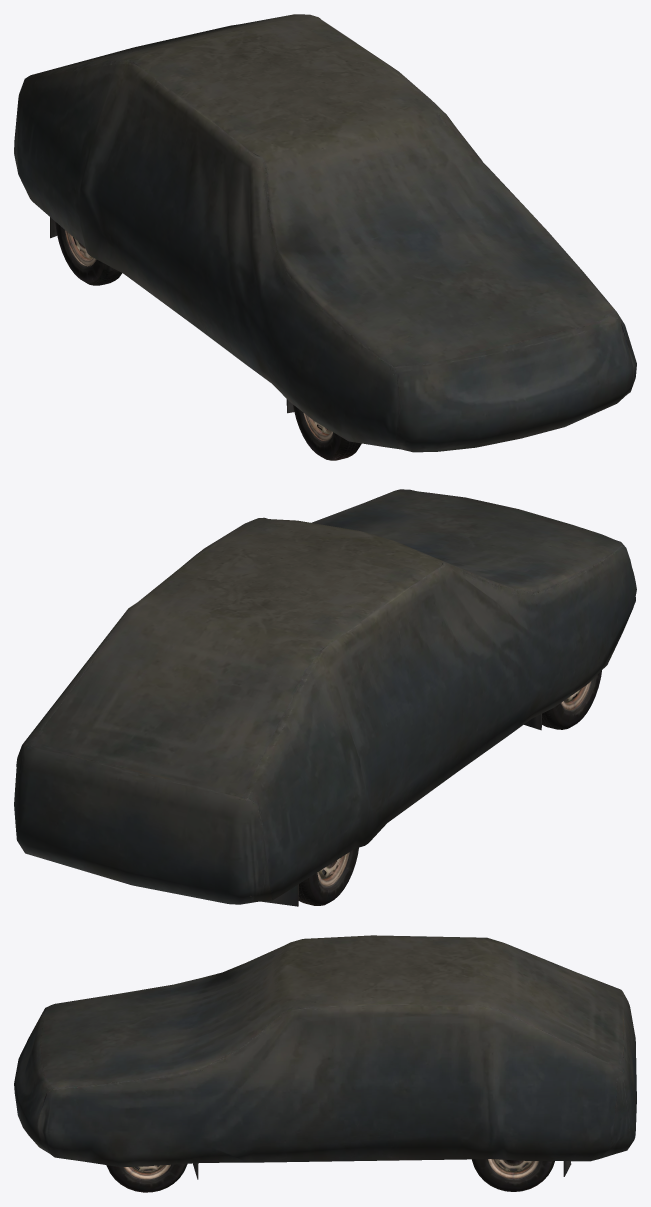
Rendered from covered_car.glb.
The picture shows the model from 3 angles, top to bottom: view 1: azimuth 30°, elevation 25°; view 2: azimuth 150°, elevation 25°; view 3: azimuth 270°, elevation 25°; orthographic projection. The views are drawn at different scales.
Parts seen in each view (by area): view 1: covered_car, covered_car_wheel_03, covered_car_wheel_02; view 2: covered_car, covered_car_wheel_03, covered_car_wheel_02; view 3: covered_car, covered_car_wheel_04, covered_car_wheel_01.
Boxes of the visible parts, <box> form: covered_car: <box>14,14,636,452</box>; covered_car_wheel_03: <box>55,222,121,285</box>; covered_car_wheel_02: <box>293,405,361,460</box>; covered_car: <box>14,489,636,906</box>; covered_car_wheel_03: <box>298,847,358,905</box>; covered_car_wheel_02: <box>542,670,601,729</box>; covered_car: <box>14,935,636,1179</box>; covered_car_wheel_04: <box>472,1159,554,1191</box>; covered_car_wheel_01: <box>106,1163,187,1192</box>.
Size of the model in its own units: 1.79 by 1.41 by 4.38.
1 material, 1 textured.
